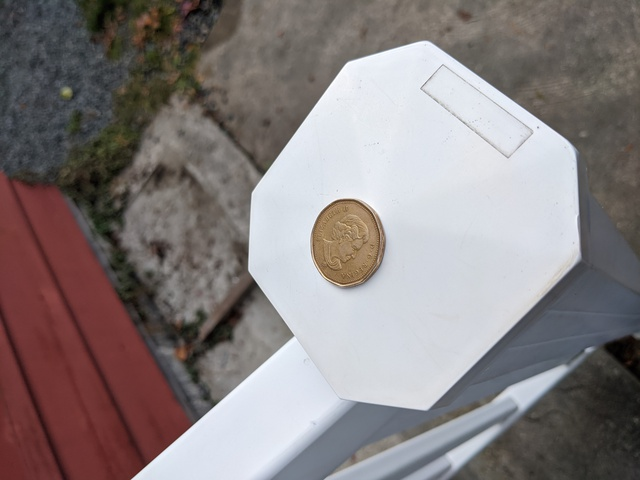loonie: (305, 193, 386, 290)
